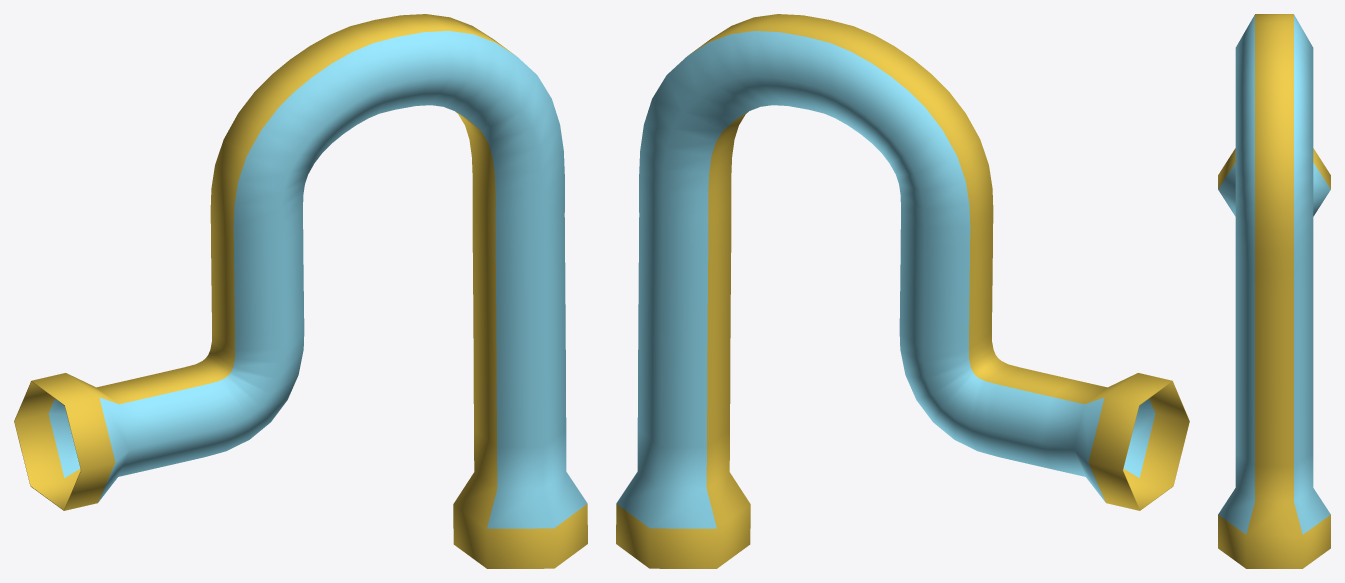
File: big-pipe.fbx
3 views of the same model, side by side, from view 1: azimuth 30°, elevation 25°; view 2: azimuth 150°, elevation 25°; view 3: azimuth 270°, elevation 25° (orthographic). The views are drawn at different scales.
Visible parts, largest first — view 1: big-pipe; view 2: big-pipe; view 3: big-pipe.
Part boxes in pixels (x1,y1,x2,y2): big-pipe: (14, 14, 587, 568); big-pipe: (616, 14, 1189, 568); big-pipe: (1218, 14, 1330, 568).
Size of the model in its own units: 27.02 by 27.05 by 6.
1 material, 1 textured.
